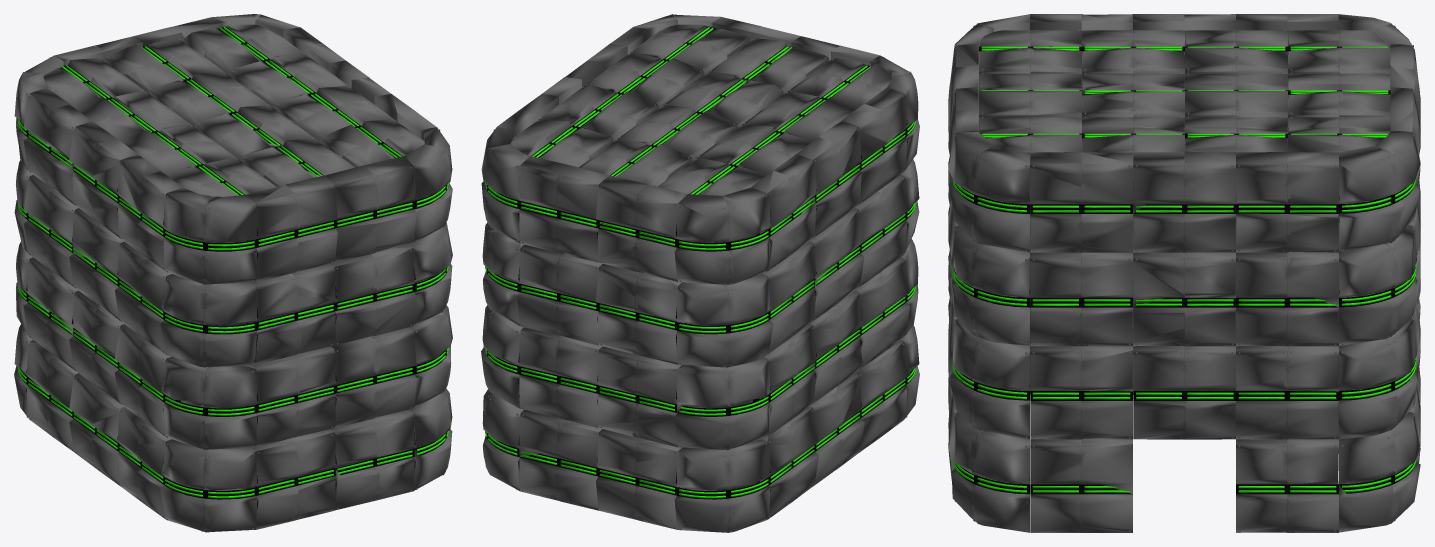
The model's file is shop.glb.
3 renders of one model, left to right at view 1: azimuth 30°, elevation 25°; view 2: azimuth 150°, elevation 25°; view 3: azimuth 270°, elevation 25°, orthographic. The views are drawn at different scales.
Visible parts, largest first — view 1: Shop_Door_SciFi_panel_004_a; view 2: Shop_Door_SciFi_panel_004_a; view 3: Shop_Door_SciFi_panel_004_a.
Part boxes in pixels (x1,y1,x2,y2): Shop_Door_SciFi_panel_004_a: [14, 14, 452, 532]; Shop_Door_SciFi_panel_004_a: [481, 14, 919, 532]; Shop_Door_SciFi_panel_004_a: [948, 14, 1420, 532].
Bounding box in the file's own units: 7.18 × 8.01 × 9.18.
